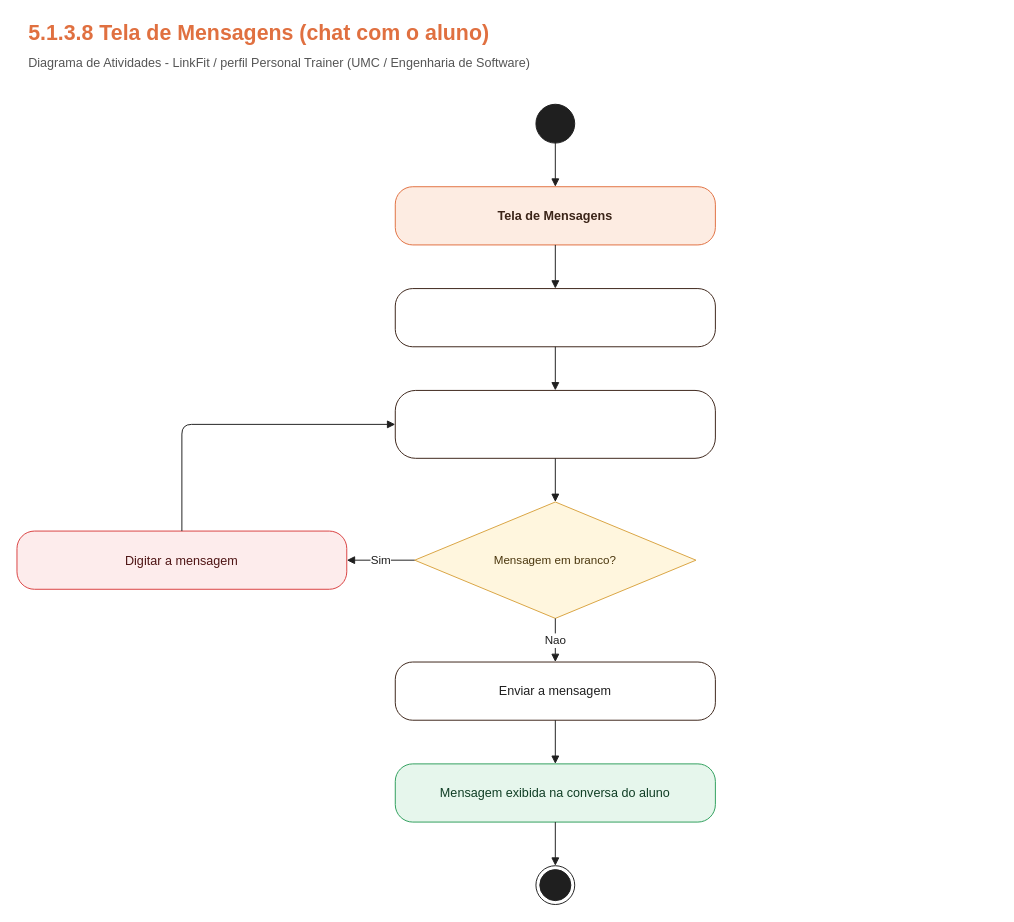
Some shapes in this 1014 by 922 pixel diagram are drawn without their labels. The box of each missing label's shape, as (x1, y1, x2, y2) in pixels:
Escrever a mensagem, anexar imagem ou gravar audio: (394, 389, 715, 458)
Selecionar o aluno na lista de conversas: (394, 288, 715, 347)
